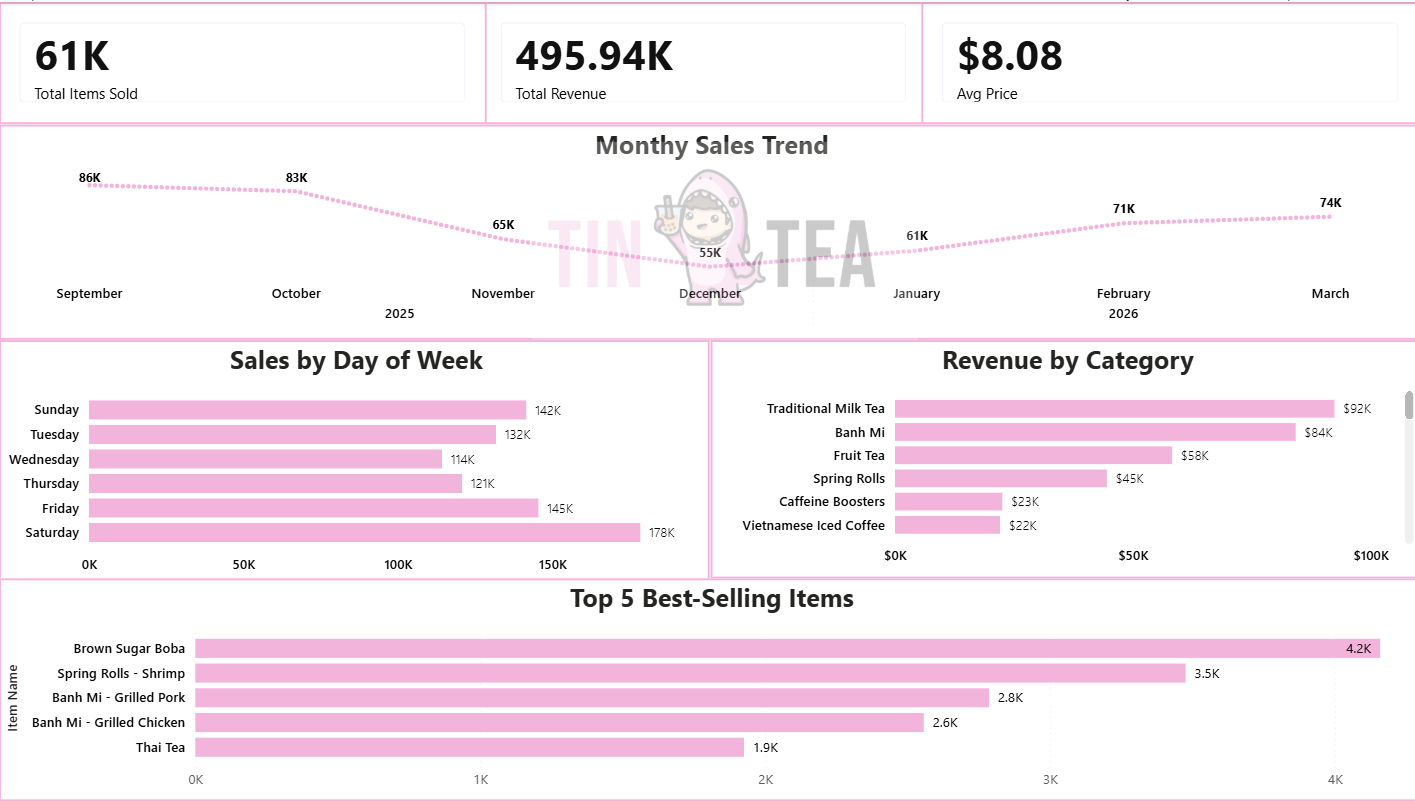

The dashboard page shown, as its layout file describes it:
{"tool":"powerbi","page":{"name":"Sales Dashboard","canvas":[1280,720],"ordinal":0},"visuals":[{"type":"clusteredBarChart","title":"Sales by Day of Week","fields":{"Category":["sales-summary-2025-09-01–2026-03-01 (1).Day"],"Y":["Sum(sales-summary-2025-09-01–2026-03-01 (1).Amount)"]},"box":[0,304.4,640,222.2],"z":0},{"type":"clusteredBarChart","title":"Top 5 Best-Selling Items","fields":{"Category":["item-sales-summary-2025-09-01-2026-03-01.Item Name"],"Y":["Sum(item-sales-summary-2025-09-01-2026-03-01.Items Sold)"]},"box":[0,518.8,1280,201.1],"z":1000},{"type":"clusteredBarChart","title":"Revenue by Category","fields":{"Category":["category-sales-2025-09-01-2026-03-01.Category"],"Y":["Sum(category-sales-2025-09-01-2026-03-01.Gross Sales)"]},"box":[640,304.4,640,214.4],"z":2000},{"type":"lineChart","title":"Monthy Sales Trend","fields":{"Y":["Sum(sales-trends.Sales)"],"Category":["sales-trends.Real Date.Variation.Date Hierarchy.Year","sales-trends.Real Date.Variation.Date Hierarchy.Month"]},"box":[0,110,1280,194],"z":3000},{"type":"cardVisual","fields":{"Data":["Measures Tables.Total Revenue"]},"box":[433.2,0,403.3,110.4],"z":4000},{"type":"image","box":[300.1,125.8,706.5,178.4],"z":4500},{"type":"cardVisual","fields":{"Data":["Measures Tables.Total Items Sold"]},"box":[0,0,439.4,110.4],"z":5000},{"type":"cardVisual","fields":{"Data":["Measures Tables.Avg Price per Item"]},"box":[830.3,0,449.7,110.4],"z":6000}]}

Visuals, with their boxes in screenshot pixels (x1, y1, x2, y2), scaled from the page's 1280x720 canvas onto the 1415x801 screenshot:
"Sales by Day of Week" clusteredBarChart: <box>0,339,708,586</box>
"Top 5 Best-Selling Items" clusteredBarChart: <box>0,577,1414,800</box>
"Revenue by Category" clusteredBarChart: <box>708,339,1414,577</box>
"Monthy Sales Trend" lineChart: <box>0,122,1414,338</box>
cardVisual - Measures Tables.Total Revenue: <box>479,0,925,123</box>
image: <box>332,140,1113,338</box>
cardVisual - Measures Tables.Total Items Sold: <box>0,0,486,123</box>
cardVisual - Measures Tables.Avg Price per Item: <box>918,0,1414,123</box>
